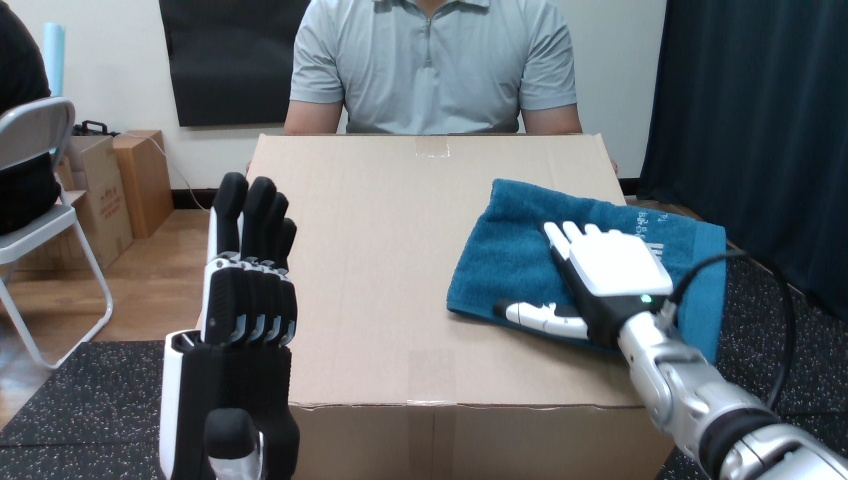left robot hand: (531, 221, 847, 479), (159, 173, 298, 478)
